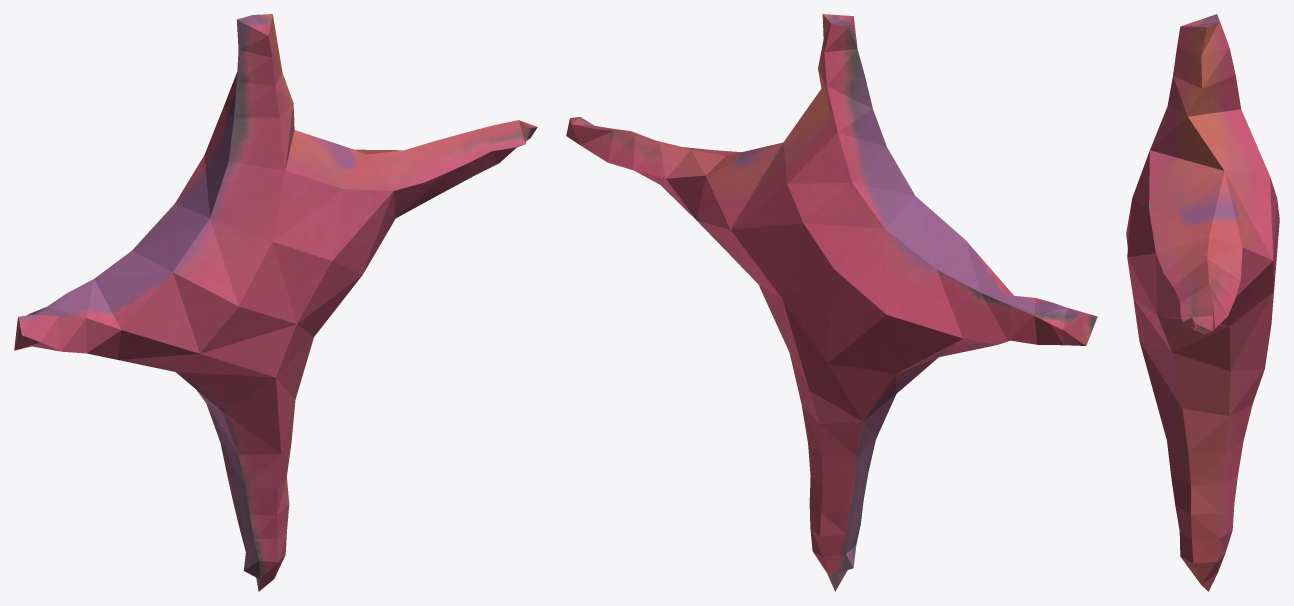
Rendered from Star_005.fbx.
3 renders of one model, left to right at view 1: azimuth 30°, elevation 25°; view 2: azimuth 150°, elevation 25°; view 3: azimuth 270°, elevation 25°, orthographic.
Parts seen in each view (by area): view 1: Star.005; view 2: Star.005; view 3: Star.005.
Boxes of the visible parts, x1,y1,x2,y2 form: Star.005: [14, 14, 537, 591]; Star.005: [566, 14, 1097, 591]; Star.005: [1126, 14, 1279, 591].
Bounding box in the file's own units: 18.89 × 19.88 × 4.85.
